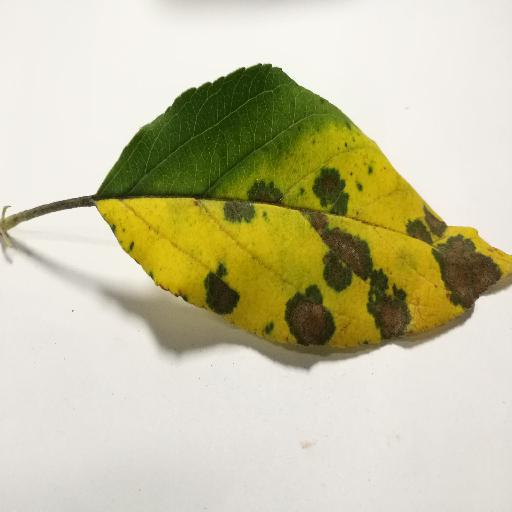Brown_Spot: (408, 209, 500, 313), (301, 208, 364, 288), (364, 289, 413, 337), (290, 294, 327, 347)
